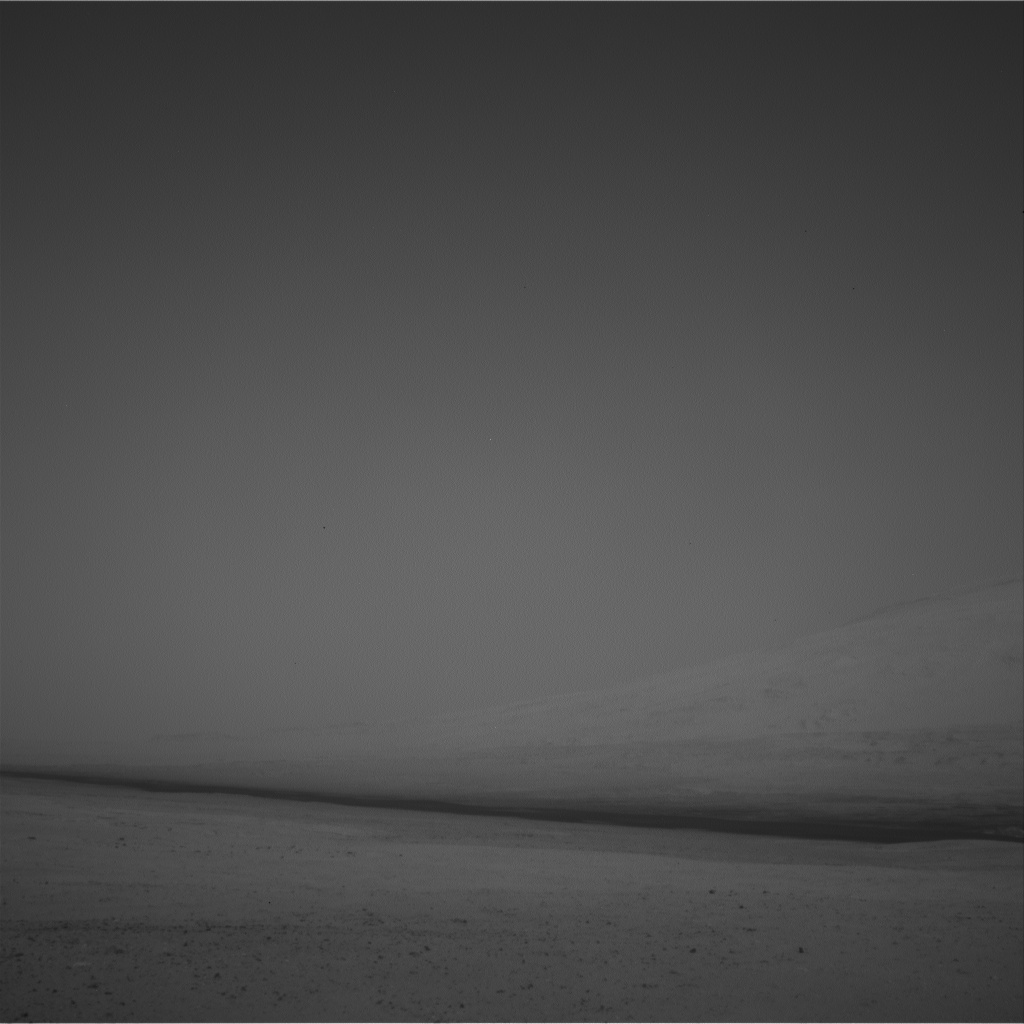soil: (8, 946, 1018, 1020)
